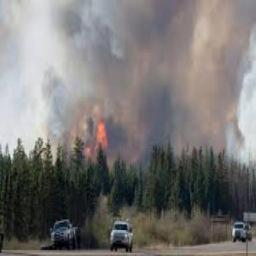Heavy smoke: (0, 0, 255, 183)
Small fire: (75, 111, 121, 167)
